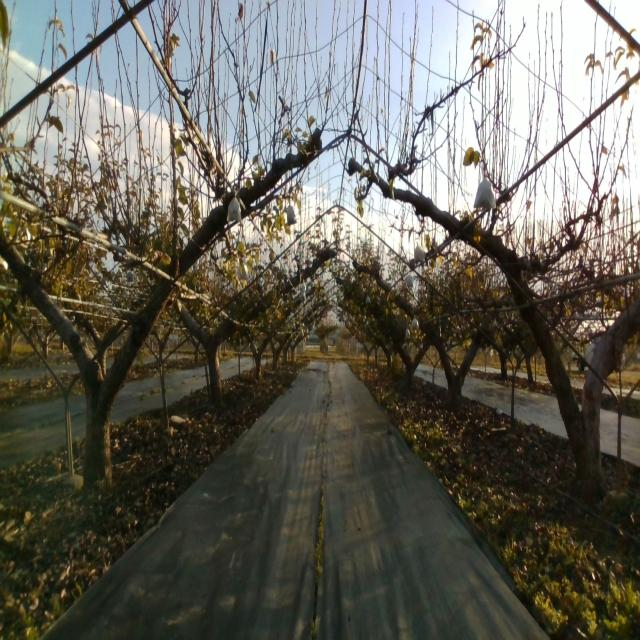pearbags: (474, 178, 496, 210), (226, 189, 242, 223), (414, 241, 426, 265), (286, 205, 298, 226)
